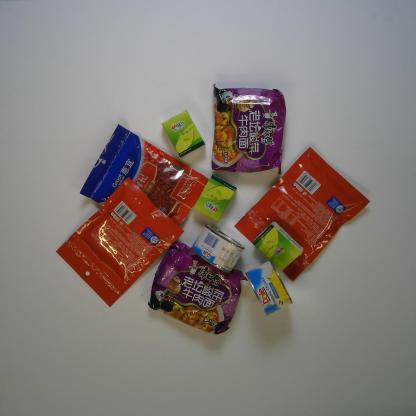Canned Food: (245, 257, 293, 318), (190, 222, 244, 274)
Dried Fruit: (233, 146, 372, 283), (56, 176, 184, 310), (77, 122, 210, 228)
Instant Noodles: (146, 238, 248, 336), (207, 81, 288, 177)
Tissue: (250, 220, 304, 273), (160, 108, 205, 160), (194, 169, 237, 221)
